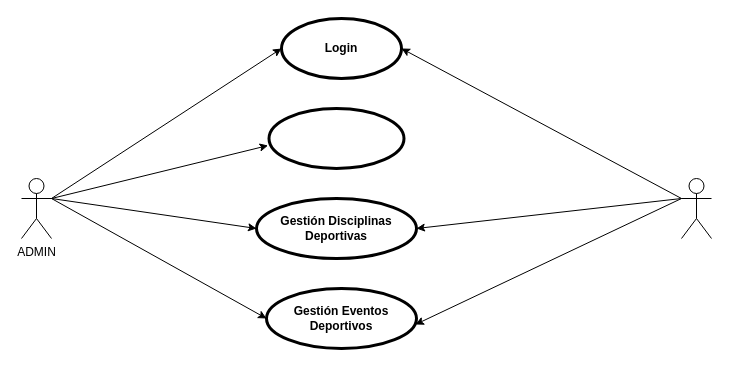
The diagram is 741 pixels wide and 367 high, and some of its shapes have lost their labels. Each missing label, with the box of its shape:
AFILIADO: (680, 178, 712, 238)
Gestión Afiliados: (267, 106, 405, 170)
